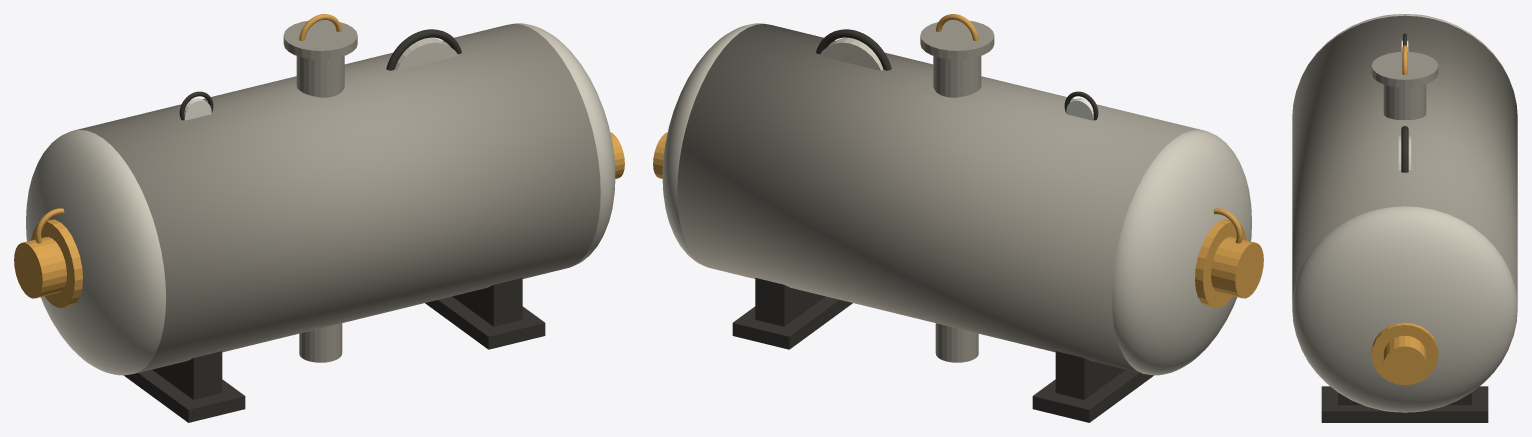
Rendered from separator.obj.
3 renders of one model, left to right at view 1: azimuth 30°, elevation 25°; view 2: azimuth 150°, elevation 25°; view 3: azimuth 270°, elevation 25°, orthographic. The views are drawn at different scales.
Visible parts, largest first — view 1: Separator_Shell, Separator_Head_W, Separator_Head_E, Separator_BasePlate_W, Separator_BasePlate_E, Separator_Inlet, Separator_GasNozzle_Flange, Separator_Saddle_W, Separator_Saddle_E, Separator_Inlet_Flange, Separator_GasNozzle, Separator_WaterNozzle (+2 smaller); view 2: Separator_Shell, Separator_Head_W, Separator_Head_E, Separator_BasePlate_W, Separator_BasePlate_E, Separator_Inlet, Separator_GasNozzle_Flange, Separator_Saddle_W, Separator_Saddle_E, Separator_Inlet_Flange, Separator_GasNozzle, Separator_WaterNozzle (+2 smaller); view 3: Separator_Shell, Separator_Head_E, Separator_BasePlate_E, Separator_GasNozzle_Flange, Separator_OilOutlet, Separator_OilOutlet_Flange, Separator_GasNozzle, Separator_Head_W, Separator_ManwayRing, Separator_Saddle_E, Separator_Manway.
Boxes of the visible parts, x1,y1,x2,y2 form: Separator_Shell: (74,23,600,373); Separator_Head_W: (26,129,165,375); Separator_Head_E: (515,23,615,267); Separator_BasePlate_W: (124,369,245,422); Separator_BasePlate_E: (425,296,545,349); Separator_Inlet: (14,237,66,298); Separator_GasNozzle_Flange: (283,20,357,59); Separator_Saddle_W: (152,351,222,399); Separator_Saddle_E: (452,278,522,326); Separator_Inlet_Flange: (31,219,82,307); Separator_GasNozzle: (296,56,344,97); Separator_WaterNozzle: (299,323,342,362); Separator_Shell: (677,23,1203,373); Separator_Head_W: (1112,129,1251,375); Separator_Head_E: (662,23,762,267); Separator_BasePlate_W: (1032,369,1153,422); Separator_BasePlate_E: (732,296,852,349); Separator_Inlet: (1211,237,1263,298); Separator_GasNozzle_Flange: (920,20,994,59); Separator_Saddle_W: (1055,351,1125,399); Separator_Saddle_E: (755,278,825,326); Separator_Inlet_Flange: (1195,219,1246,307); Separator_GasNozzle: (933,56,981,97); Separator_WaterNozzle: (935,323,978,362); Separator_Shell: (1292,15,1517,304); Separator_Head_E: (1292,206,1517,412); Separator_BasePlate_E: (1321,386,1488,422); Separator_GasNozzle_Flange: (1371,52,1438,87); Separator_OilOutlet: (1383,335,1426,385); Separator_OilOutlet_Flange: (1371,322,1438,384); Separator_GasNozzle: (1383,84,1426,119); Separator_Head_W: (1301,14,1508,77); Separator_ManwayRing: (1401,126,1408,172); Separator_Saddle_E: (1338,392,1471,405); Separator_Manway: (1398,135,1411,170).
Size of the model in its own units: 5.65 by 3.13 by 2.1.
